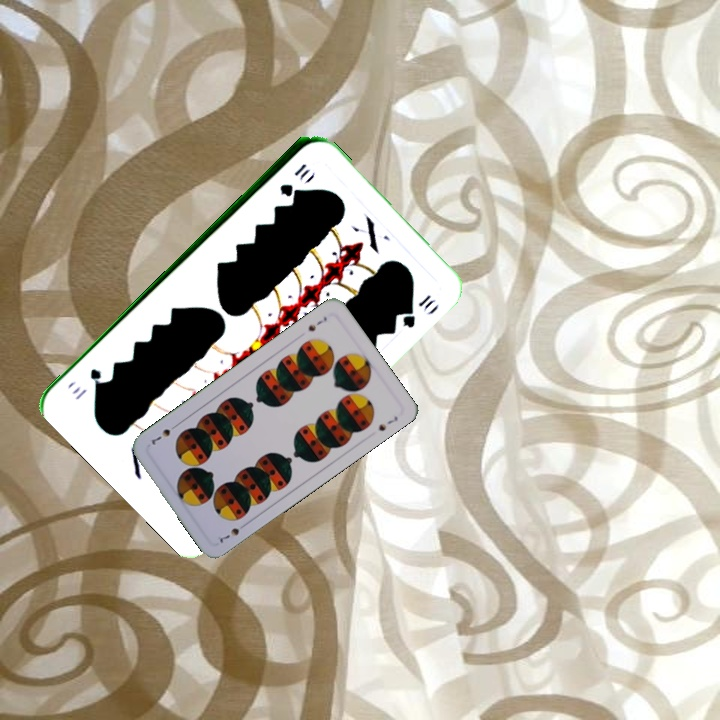G10: (275, 159, 312, 198)
S7: (213, 519, 250, 546), (304, 312, 330, 334)
